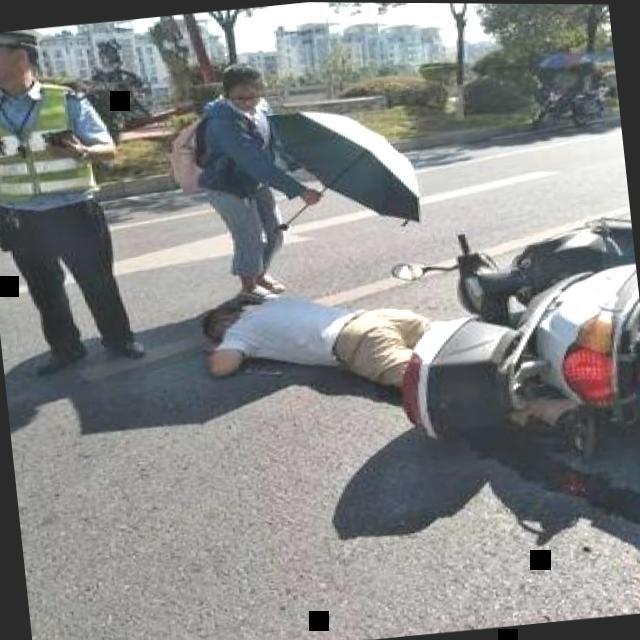Fall-Detected: (188, 255, 487, 436)
